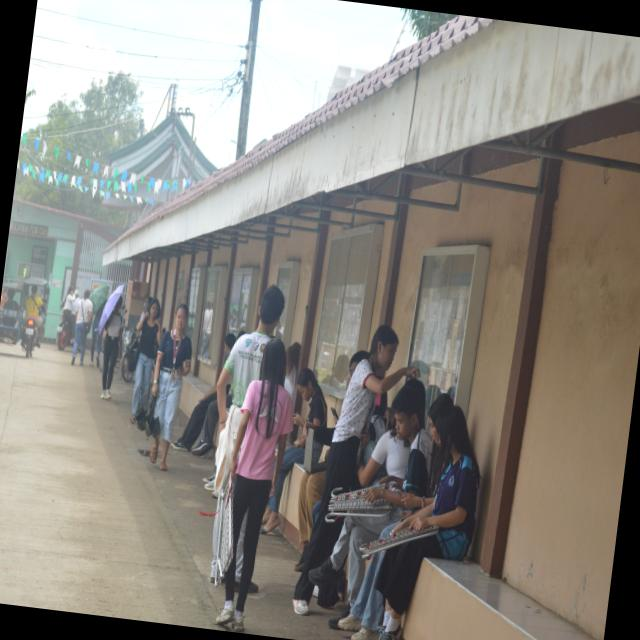person: (292, 325, 418, 615), (375, 406, 479, 639), (215, 339, 291, 631), (260, 369, 326, 534), (151, 303, 191, 471), (130, 299, 160, 423), (100, 296, 122, 399), (70, 290, 92, 365), (89, 302, 105, 368)
